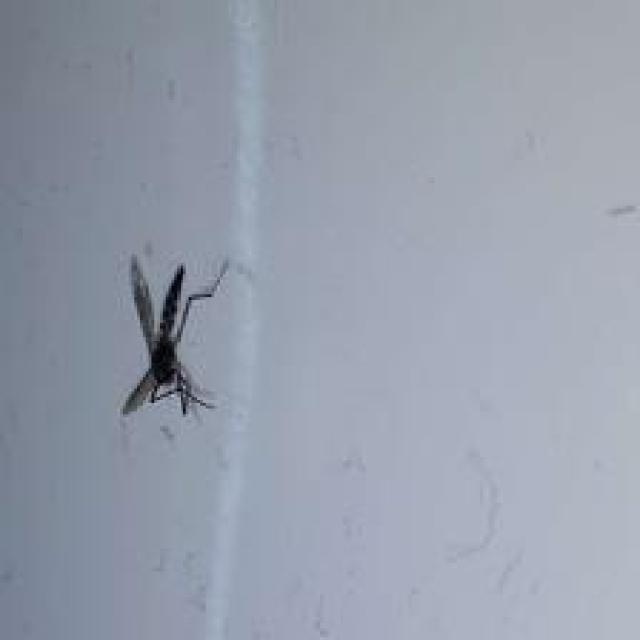Aedes albopictus: (120, 253, 229, 418)
